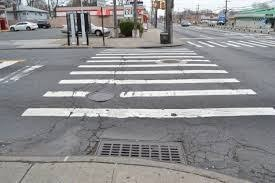crosswalk: (0, 46, 274, 182), (182, 37, 274, 48)
pole: (165, 0, 173, 43)
